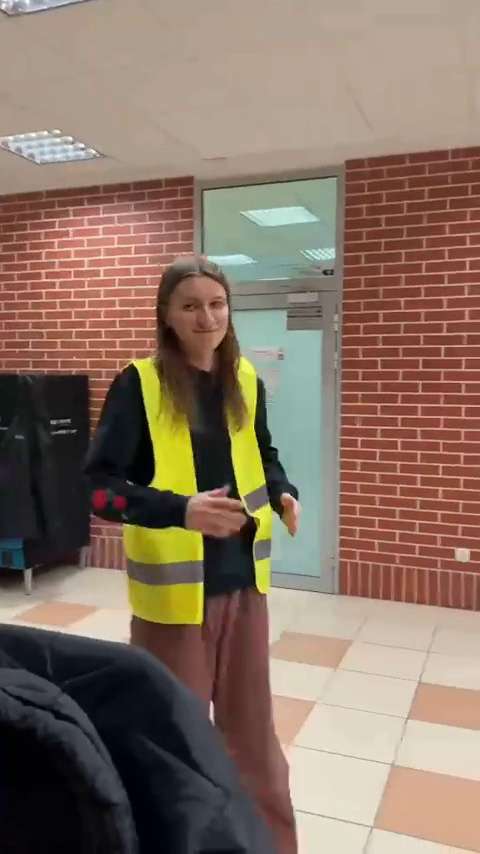vest: (100, 255, 317, 828)
